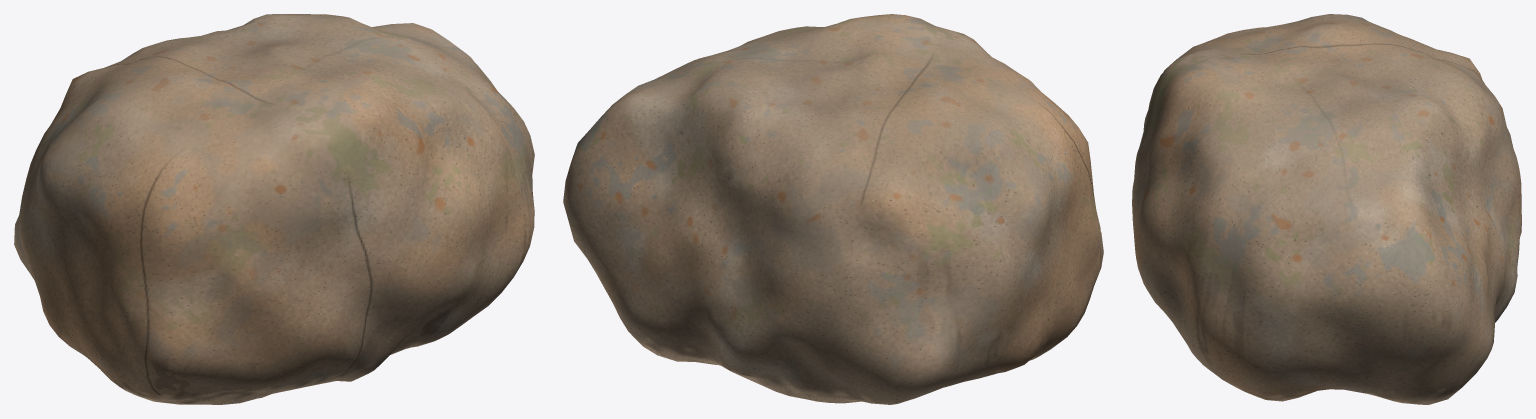
Rendered from rock_a.glb.
3 views of the same model, side by side, from view 1: azimuth 30°, elevation 25°; view 2: azimuth 150°, elevation 25°; view 3: azimuth 270°, elevation 25° (orthographic). The views are drawn at different scales.
Visible parts, largest first — view 1: rock_a; view 2: rock_a; view 3: rock_a.
Boxes of the visible parts, left/top/right/bottom form: rock_a: left=14, top=14, right=534, bottom=404; rock_a: left=563, top=14, right=1103, bottom=404; rock_a: left=1132, top=14, right=1521, bottom=404.
Size of the model in its own units: 2.46 by 1.48 by 1.91.
1 material, 1 textured.
